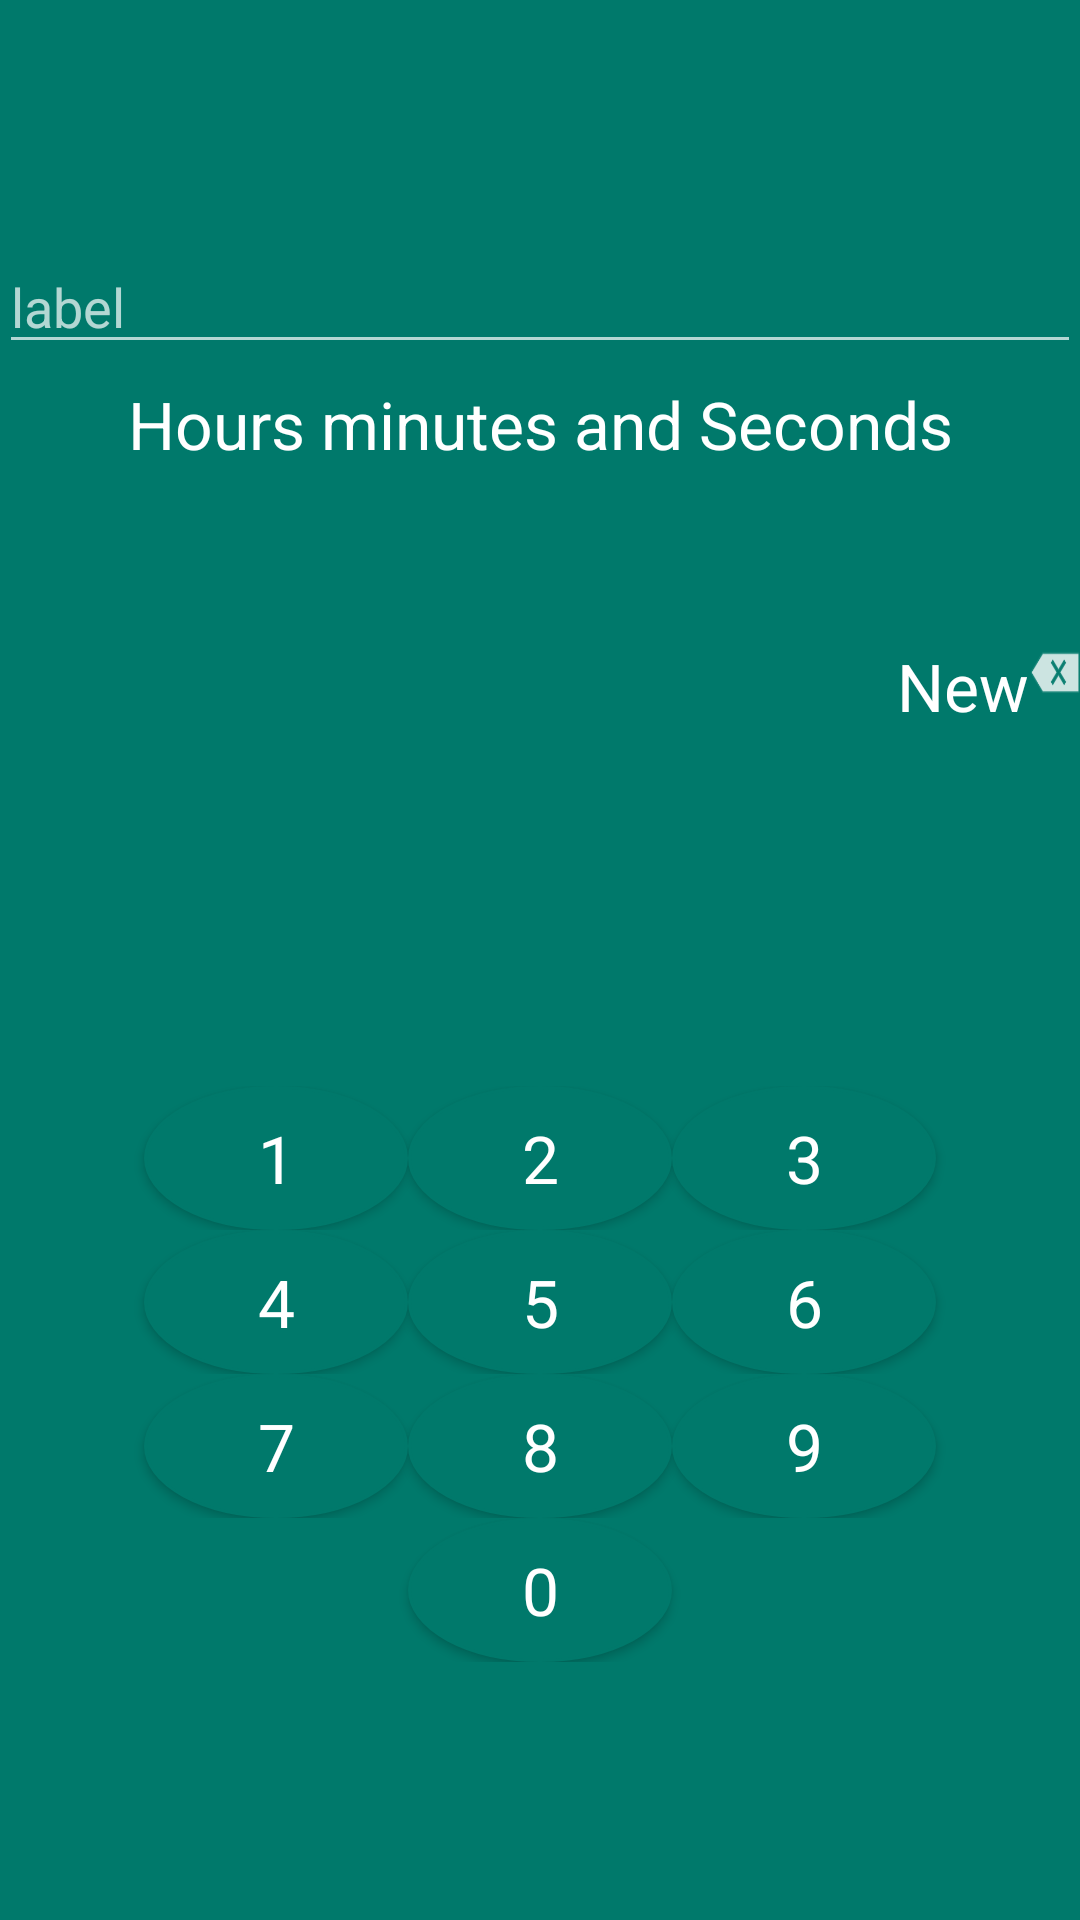

Where icons sit on this 1080*1920 app screen, as bbox(x1, y1, x2, y2):
delete: bbox(1031, 653, 1079, 693)
